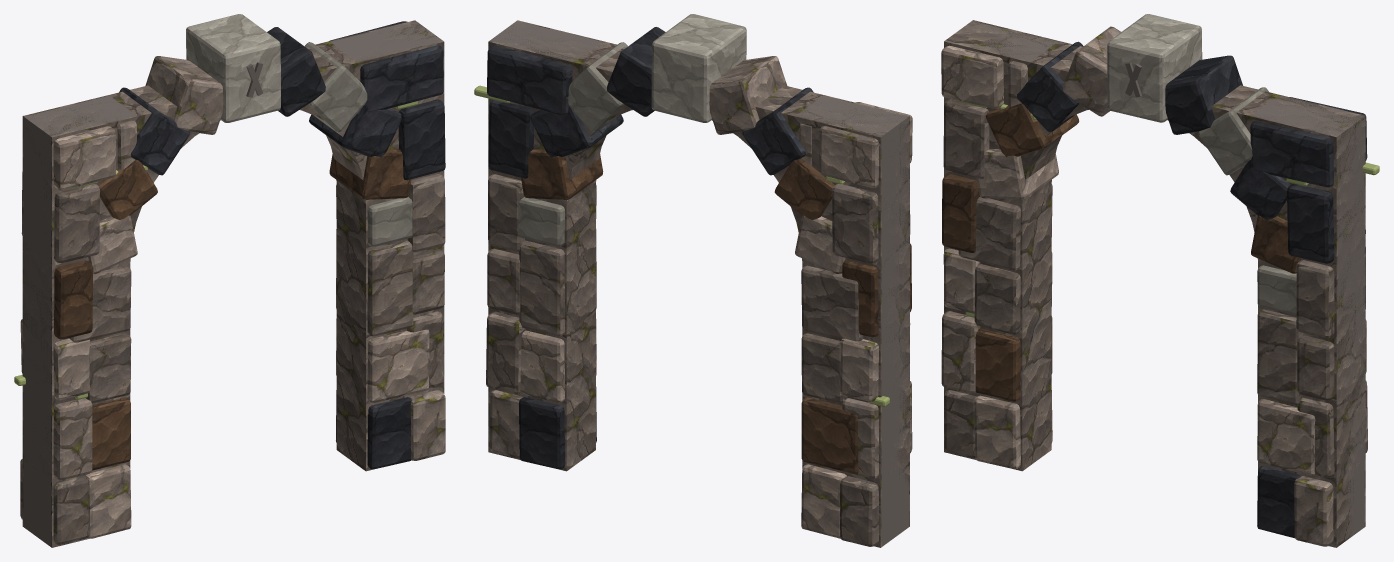
Rendered from arch_doorway__cut_stone.glb.
3 views of the same model, side by side, from view 1: azimuth 30°, elevation 25°; view 2: azimuth 150°, elevation 25°; view 3: azimuth 330°, elevation 25° (orthographic).
Visible parts, largest first — view 1: model; view 2: model; view 3: model.
Boxes of the visible parts, bbox=[...] form: model: bbox=[14, 14, 445, 547]; model: bbox=[474, 14, 912, 547]; model: bbox=[941, 14, 1379, 547].
Size of the model in its own units: 2.1 by 2.22 by 0.379.
Materials: 17 (9 with a texture image).
